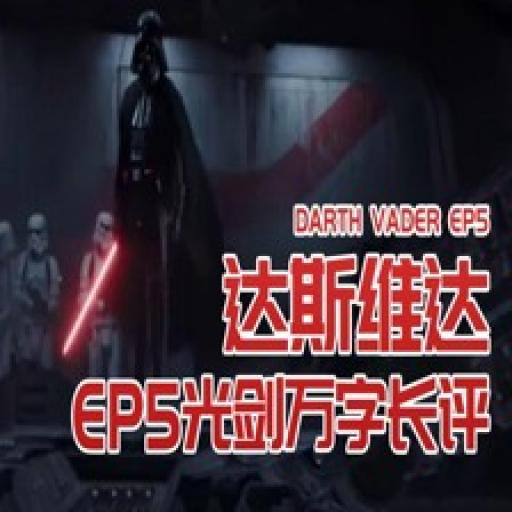sith saber: (66, 225, 126, 350)
